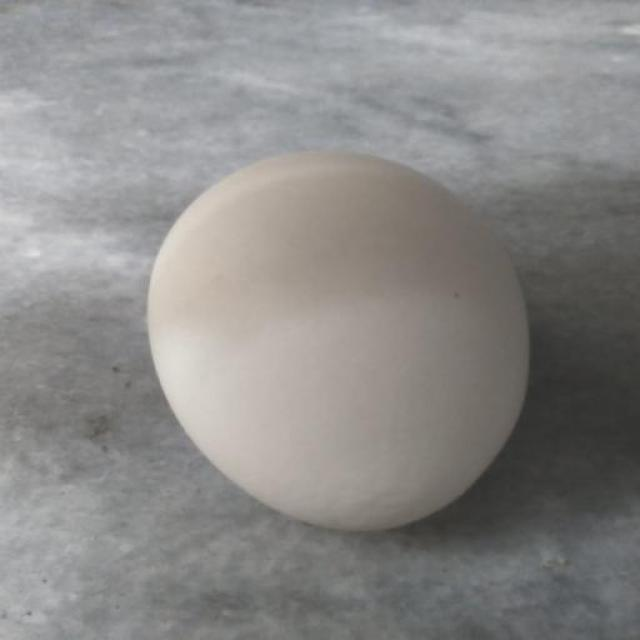telur: (144, 148, 532, 530)
